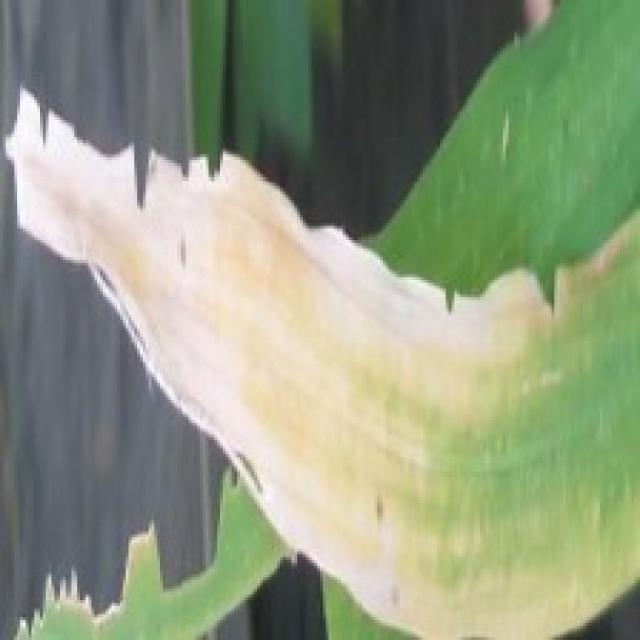Rice___Bacterial_Leaf_Blight: (7, 88, 637, 637)
